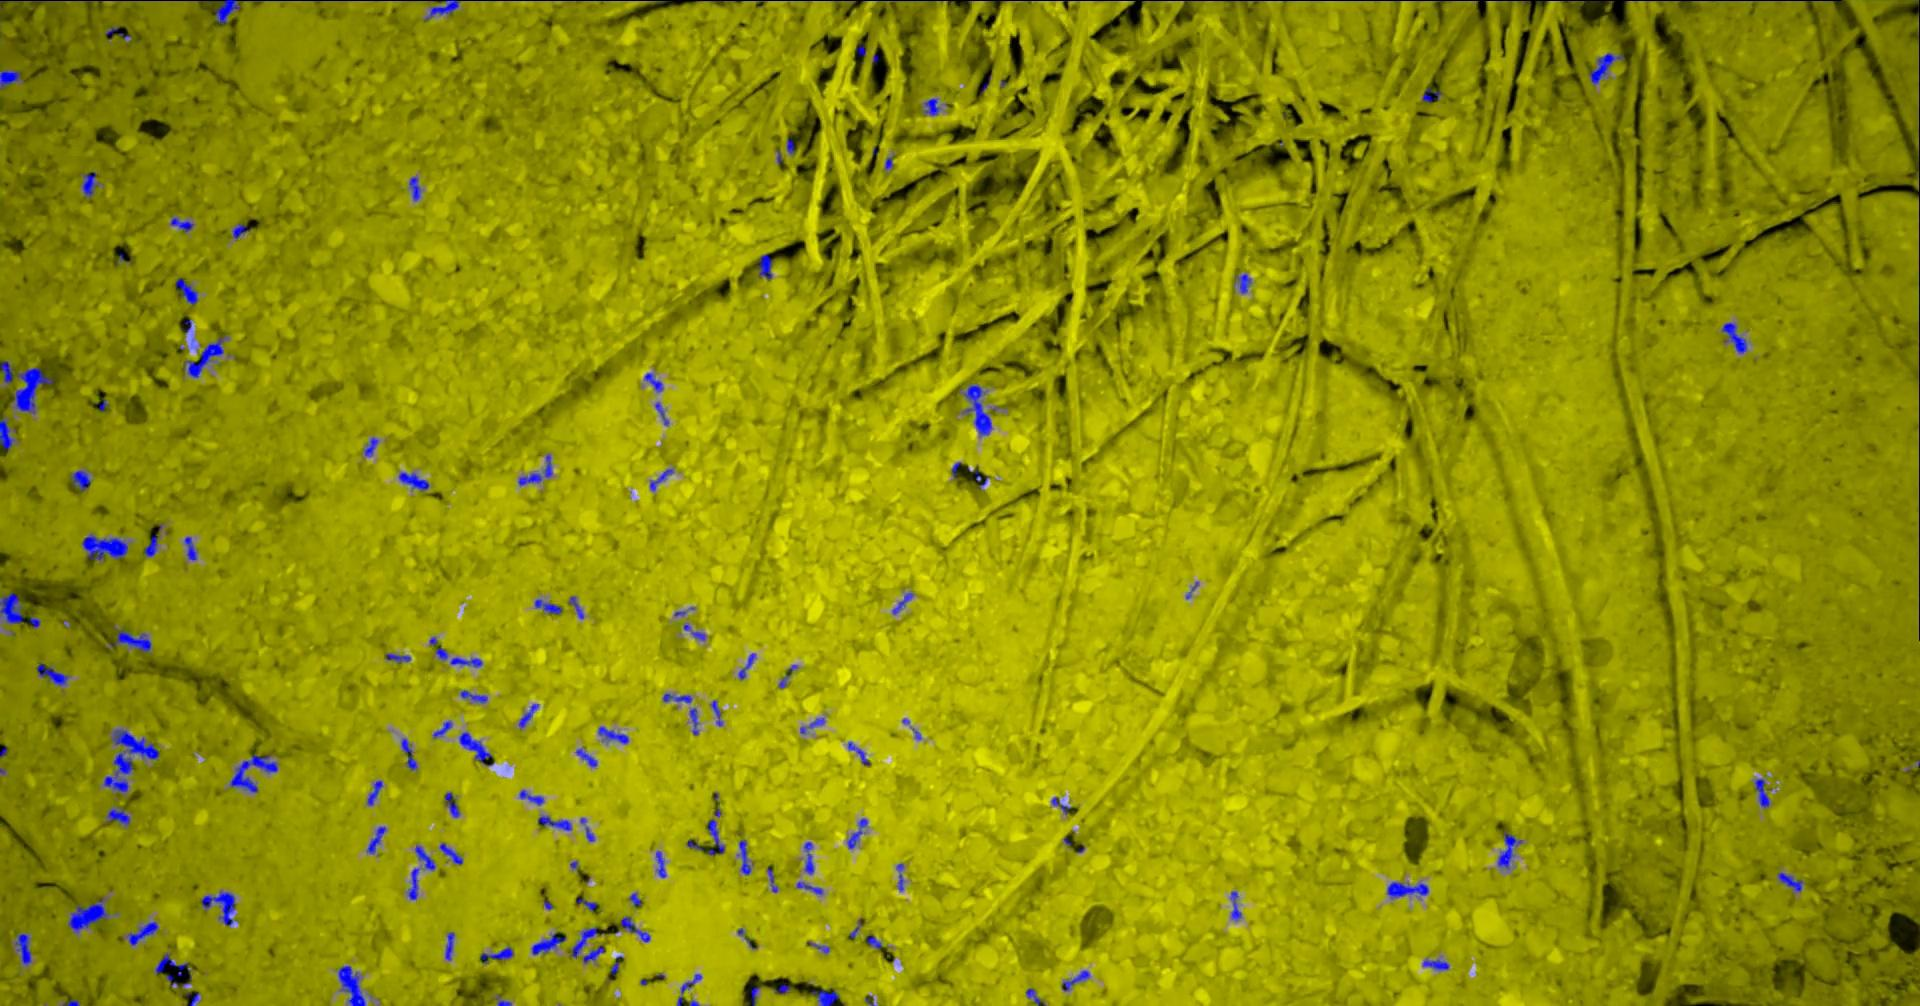ant: (1, 359, 55, 413), (231, 754, 279, 793), (185, 335, 227, 377), (70, 897, 110, 932), (965, 384, 993, 434), (688, 819, 726, 855), (460, 730, 495, 765), (202, 890, 237, 925), (83, 533, 130, 559), (1590, 52, 1625, 85), (339, 965, 367, 1005), (519, 453, 554, 485), (199, 0, 246, 23), (110, 627, 152, 652), (571, 927, 604, 956), (437, 647, 484, 667), (1498, 829, 1523, 868), (156, 951, 190, 976), (678, 973, 703, 1005), (1723, 323, 1749, 352), (622, 916, 651, 941), (533, 932, 568, 954), (425, 0, 461, 20), (130, 921, 159, 945), (1, 592, 24, 622), (1388, 882, 1430, 898), (38, 663, 70, 685), (848, 818, 869, 848), (177, 278, 199, 304), (651, 467, 676, 490), (483, 946, 516, 963), (400, 473, 430, 490), (368, 826, 387, 854), (1063, 970, 1091, 989), (739, 840, 754, 874), (850, 741, 871, 765), (599, 727, 630, 743), (403, 737, 418, 770), (17, 934, 33, 964), (441, 842, 463, 864), (417, 845, 437, 869), (1, 417, 17, 448), (521, 702, 540, 728), (538, 815, 573, 829), (1779, 873, 1804, 890), (740, 653, 757, 680), (1, 69, 23, 89), (894, 592, 914, 614), (1756, 779, 1771, 807), (813, 989, 841, 1005), (759, 253, 775, 279), (108, 807, 131, 824), (84, 171, 100, 196), (801, 716, 825, 733), (521, 789, 545, 805), (444, 793, 461, 817), (536, 600, 564, 614), (72, 470, 91, 490), (368, 780, 383, 805), (577, 748, 598, 766), (584, 945, 606, 963), (462, 688, 489, 702), (171, 216, 196, 231), (970, 469, 989, 488), (409, 868, 420, 899), (646, 372, 664, 392), (570, 596, 585, 619), (1053, 796, 1072, 814), (797, 882, 824, 894), (107, 25, 131, 39), (657, 401, 670, 426), (1237, 273, 1253, 293), (805, 841, 815, 874), (1027, 988, 1048, 1005), (1232, 890, 1243, 920), (145, 533, 159, 556), (924, 98, 942, 116), (434, 720, 453, 737), (446, 931, 456, 960), (1423, 86, 1443, 102), (410, 177, 423, 199), (232, 224, 251, 239), (364, 437, 380, 456), (185, 536, 198, 559), (712, 700, 724, 725), (577, 897, 598, 909), (657, 850, 667, 876), (1423, 959, 1450, 969), (664, 694, 693, 702), (867, 934, 884, 949), (691, 708, 700, 734), (612, 955, 623, 974), (387, 653, 411, 662), (770, 868, 778, 892), (898, 862, 905, 890), (630, 892, 643, 906), (752, 986, 761, 1005), (789, 137, 797, 152), (1, 0, 65, 1)
